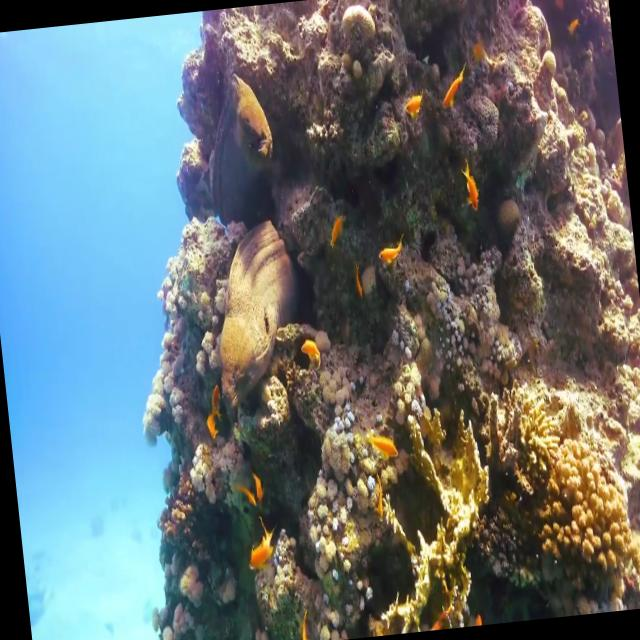fish: (189, 200, 327, 388), (214, 56, 279, 185), (356, 401, 408, 469), (236, 511, 283, 576), (372, 220, 414, 280), (454, 152, 482, 224), (394, 84, 434, 133), (294, 324, 332, 374), (436, 66, 471, 116)
